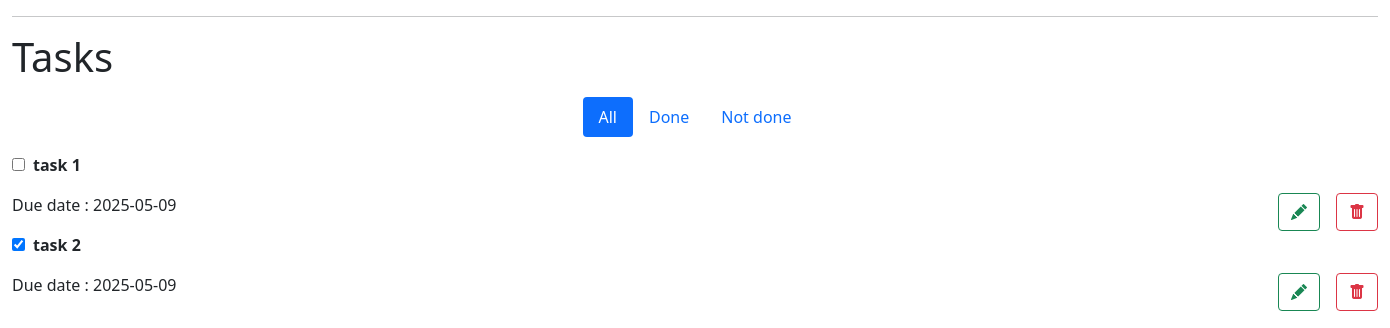
Test: TasksList › Display the right number of tasks when user click on 'Done' button
Click the link "Done" at (669, 117), box left=649, top=106, right=689, bottom=128
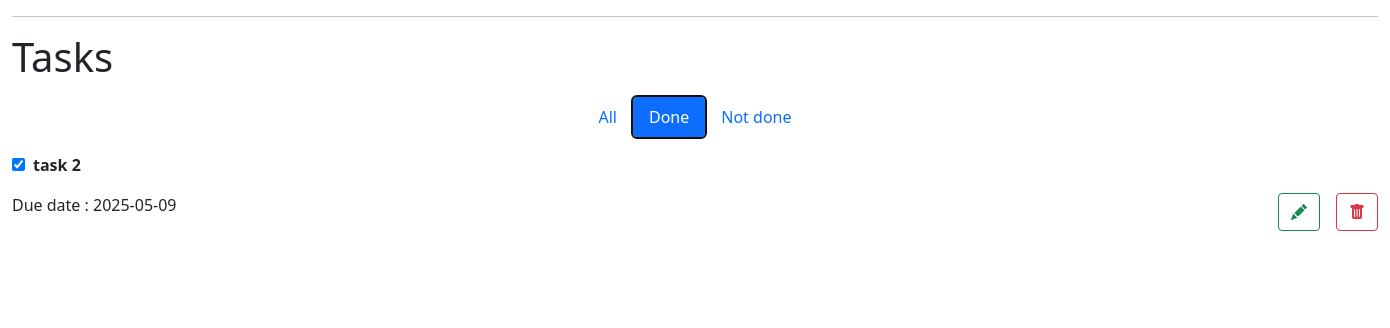
Result: the number of list items with class "list-item" is 1 at left=12, top=153, right=1378, bottom=233
